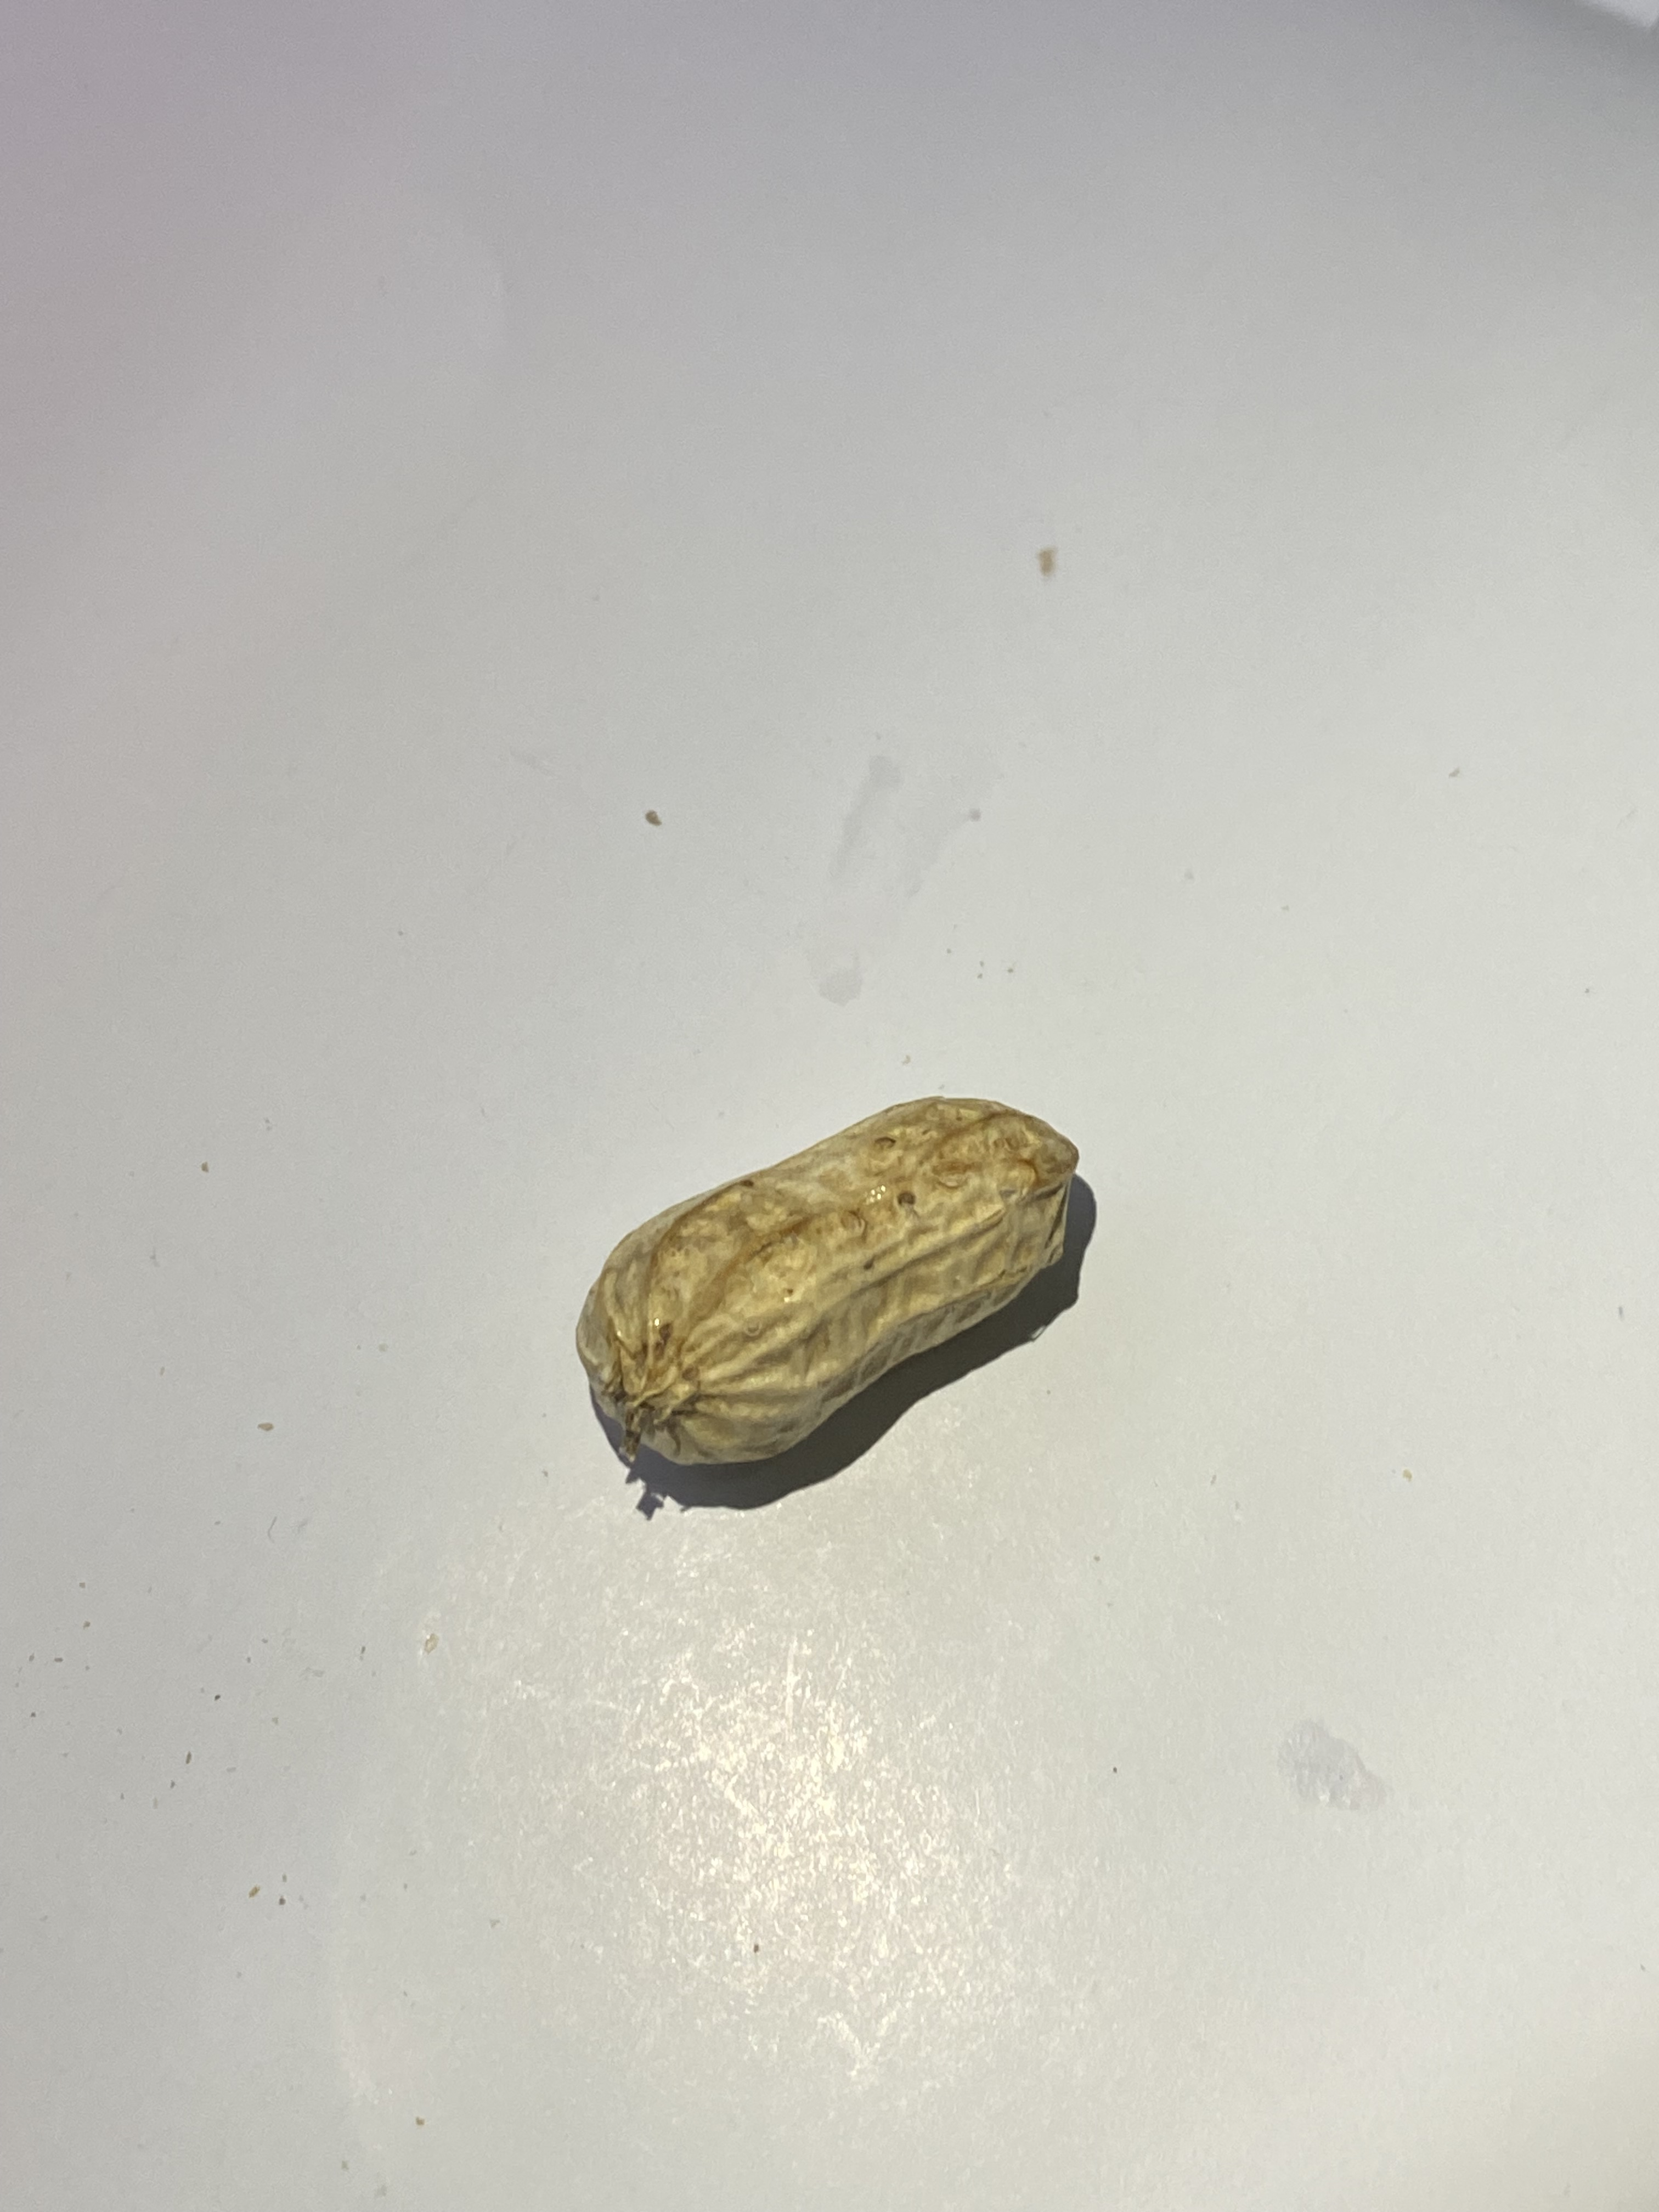kacang2: (563, 1061, 1098, 1493)
